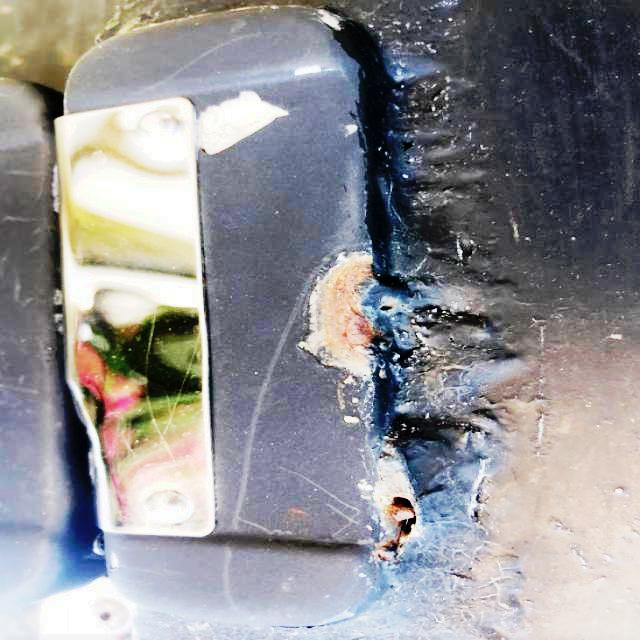Corrosion: (314, 254, 384, 371), (376, 496, 416, 562)
